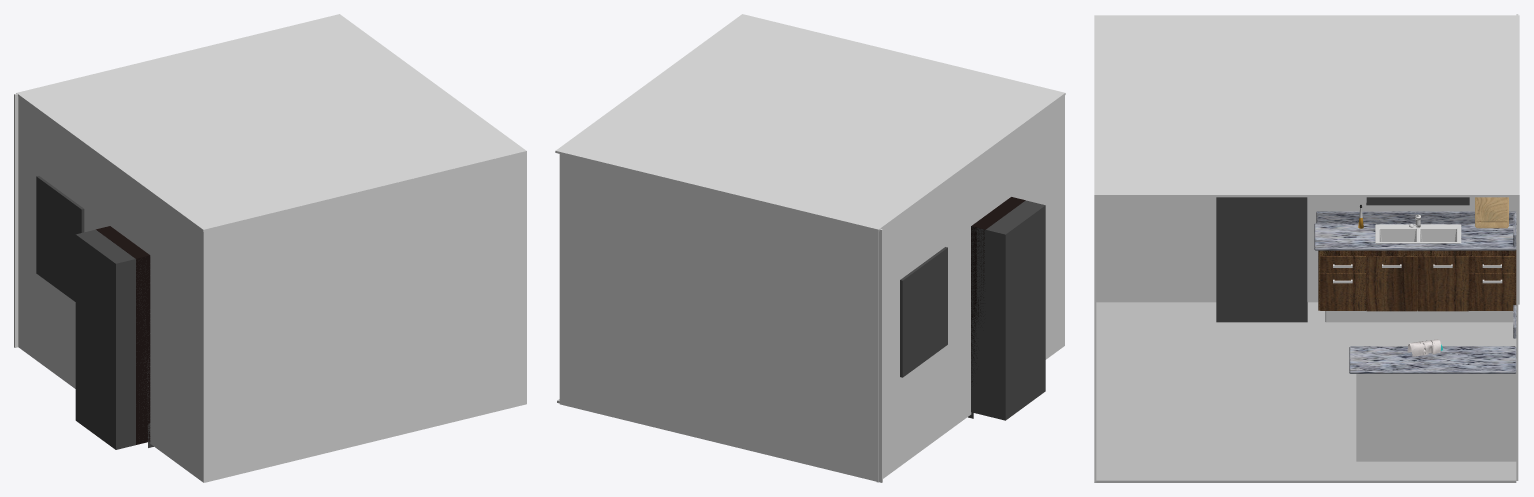
The model's file is casa.dae.
The picture shows the model from 3 angles, left to right: view 1: azimuth 30°, elevation 25°; view 2: azimuth 150°, elevation 25°; view 3: azimuth 270°, elevation 25°; orthographic projection. The views are drawn at different scales.
Visible parts, largest first — view 1: Cube.029, Cube.028, Cube.002, CTRL_Hole, CTRL_Hole.001, DoorFrame, Cube.001; view 2: Cube.001, Cube.028, Cube.002, CTRL_Hole, CTRL_Hole.001, DoorFrame; view 3: Cube.028, Cube, Cube.002, Cube.010, CTRL_Hole, Cube.019, Cube.011, Cube.005, Cube.003, Cube.008, Cube.004, Cube.030 (+9 smaller).
Boxes of the visible parts, x1,y1,x2,y2 form: Cube.029: (205,151,526,482); Cube.028: (16,14,526,231); Cube.002: (18,96,205,482); CTRL_Hole: (75,229,150,449); CTRL_Hole.001: (36,176,84,301); DoorFrame: (96,226,150,444); Cube.001: (14,93,18,347); Cube.001: (559,154,882,482); Cube.028: (555,14,1065,231); Cube.002: (876,95,1064,482); CTRL_Hole: (971,200,1045,420); CTRL_Hole.001: (900,247,947,377); DoorFrame: (971,197,1025,382); Cube.028: (1094,15,1519,197); Cube: (1094,302,1516,482); Cube.002: (1096,197,1519,304); Cube.010: (1356,373,1516,461); CTRL_Hole: (1216,197,1307,322); Cube.019: (1366,256,1468,311); Cube.011: (1349,346,1516,373); Cube.005: (1314,223,1516,250); Cube.003: (1325,310,1513,322); Cube.008: (1316,211,1516,223); Cube.004: (1318,250,1516,310); Cube.030: (1375,224,1461,243).
Size of the model in its own units: 5.82 by 5.28 by 4.01.
